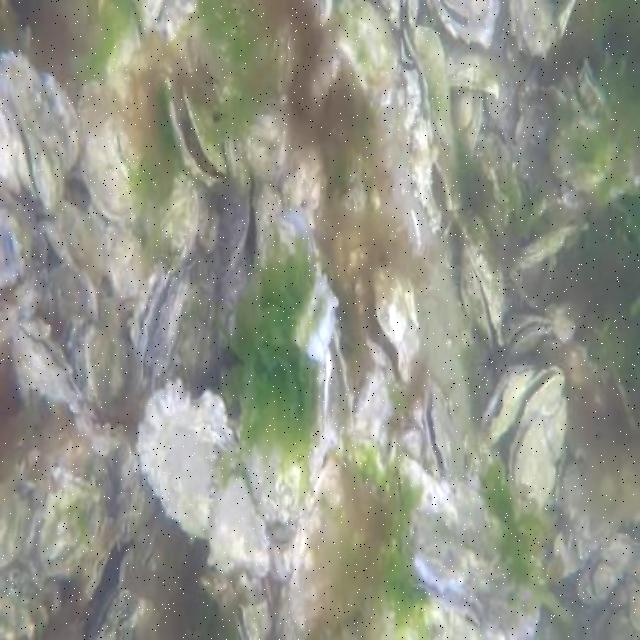Oyster-Closed: (138, 380, 275, 596), (331, 0, 399, 102), (209, 475, 270, 575), (72, 321, 131, 420), (12, 323, 79, 410), (84, 124, 144, 220), (42, 200, 106, 285), (549, 112, 614, 189), (37, 264, 99, 343), (415, 26, 452, 150), (76, 517, 120, 608), (580, 534, 633, 606), (510, 0, 573, 55), (91, 588, 156, 638), (108, 219, 146, 300), (160, 174, 199, 251), (448, 40, 500, 96), (452, 88, 483, 163), (76, 415, 125, 456), (0, 484, 24, 566), (1, 210, 25, 287), (234, 597, 272, 638), (398, 424, 424, 463), (593, 564, 617, 603)
Oyster-Open: (505, 367, 569, 522), (129, 260, 195, 389), (3, 75, 63, 214), (166, 62, 228, 191), (355, 269, 417, 394), (460, 217, 507, 355), (506, 194, 587, 271), (479, 365, 544, 444), (411, 518, 475, 592), (422, 380, 457, 485), (294, 271, 338, 354), (432, 0, 500, 44), (506, 315, 554, 359), (116, 300, 134, 336)
